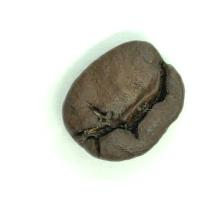NG: (80, 59, 169, 149)
